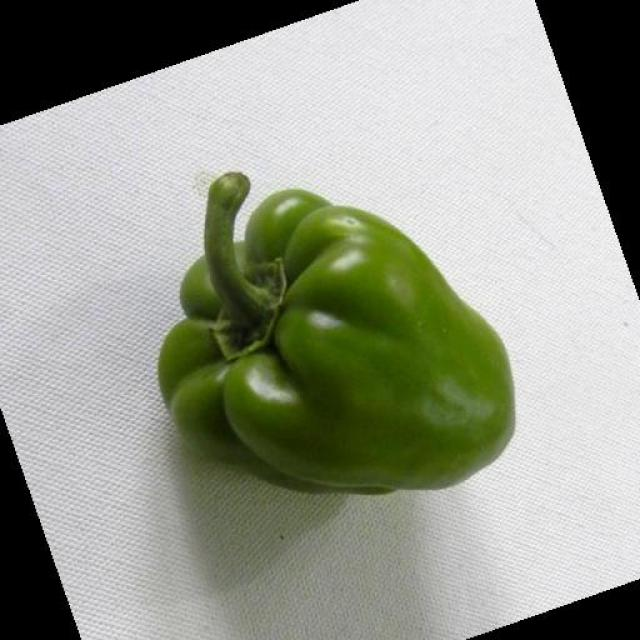Fresh_Capsicum: (173, 180, 532, 493)
